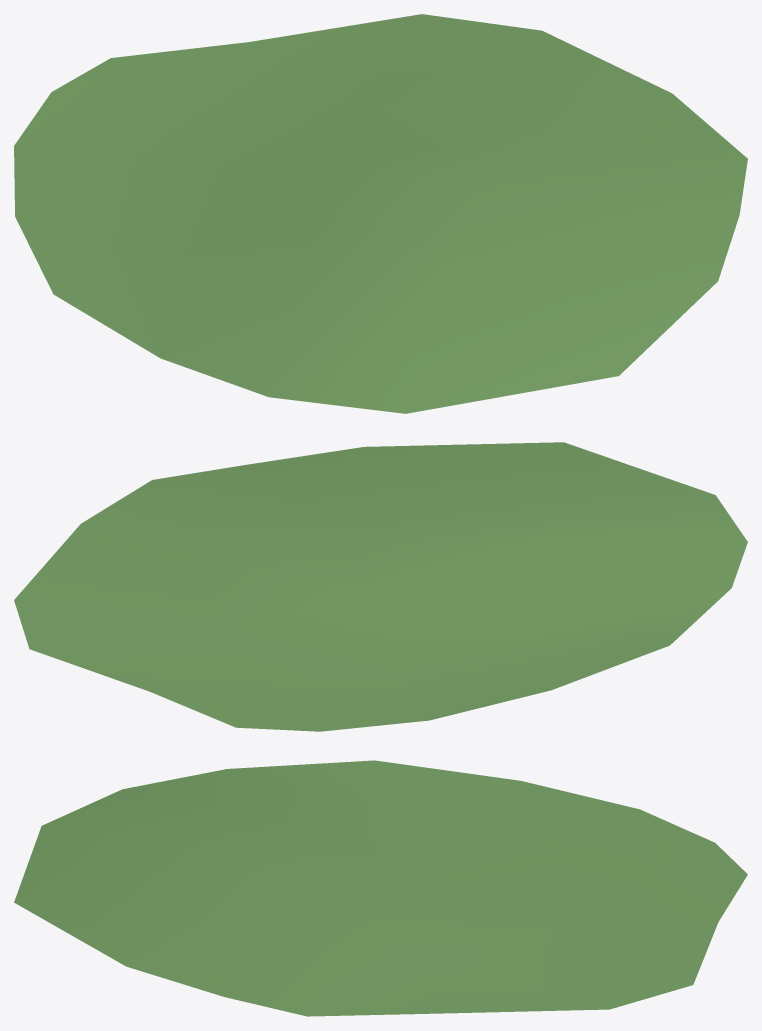
The model's file is Leaves.fbx.
3 views of the same model, one above another, from view 1: azimuth 30°, elevation 25°; view 2: azimuth 150°, elevation 25°; view 3: azimuth 270°, elevation 25° (orthographic). The views are drawn at different scales.
Parts seen in each view (by area): view 1: Leaf_Pile_Big; view 2: Leaf_Pile_Big; view 3: Leaf_Pile_Big.
Part boxes in pixels (bbox=[...]): Leaf_Pile_Big: bbox=[14, 14, 747, 413]; Leaf_Pile_Big: bbox=[14, 442, 747, 731]; Leaf_Pile_Big: bbox=[14, 760, 747, 1016].
Bounding box in the file's own units: 3.38 × 0.2525 × 3.98.
